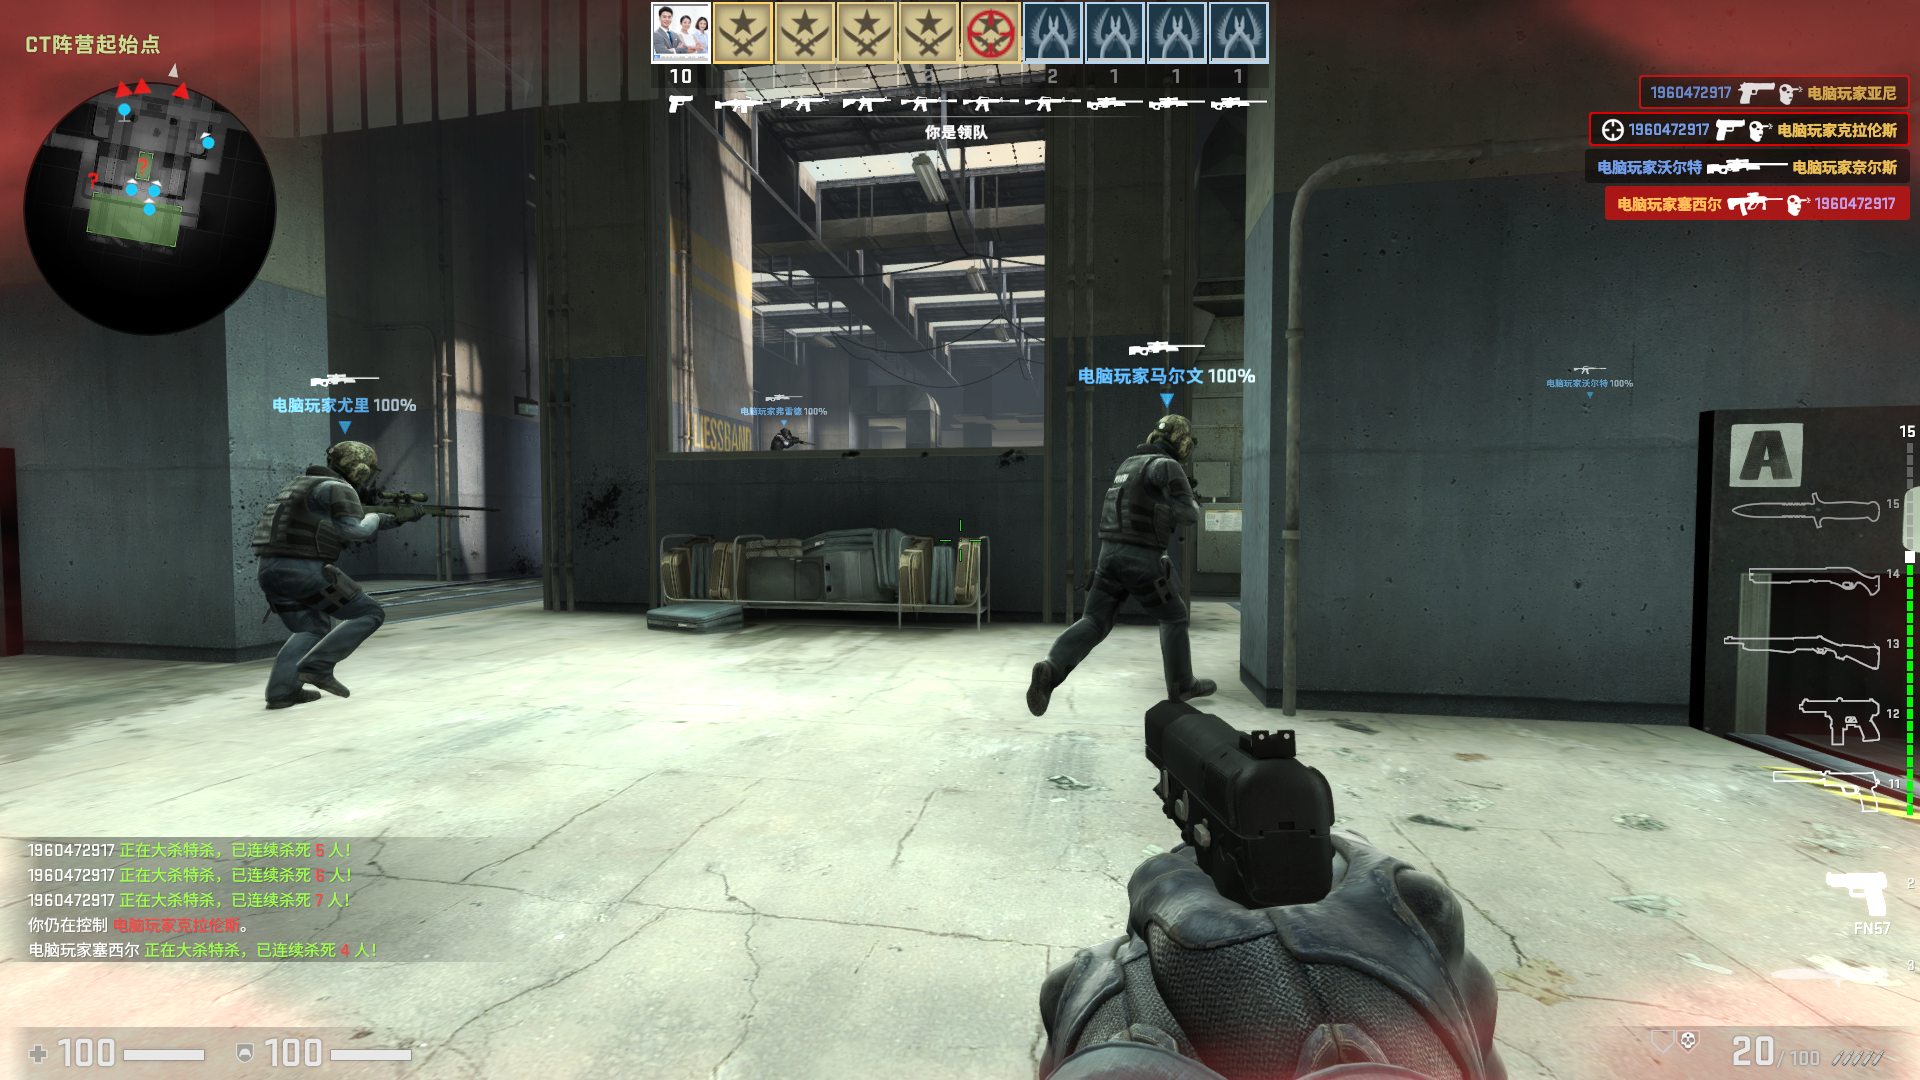person: (1038, 394, 1220, 722), (245, 438, 386, 713), (771, 418, 805, 456)
